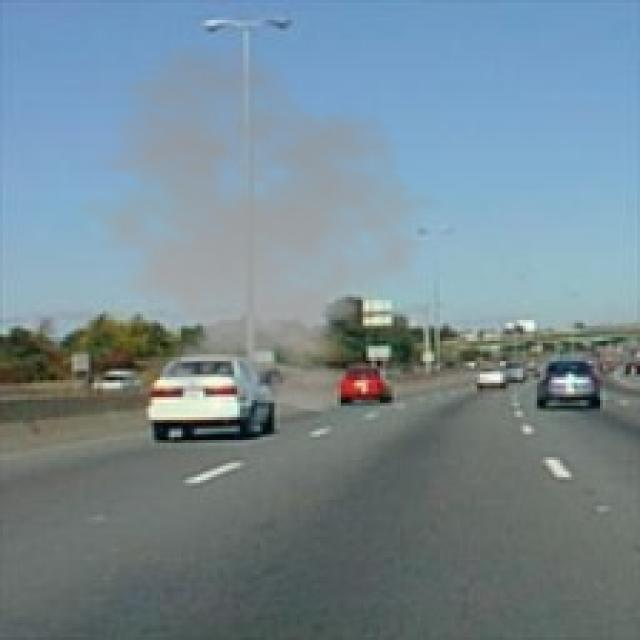smoke: (60, 40, 440, 417)
